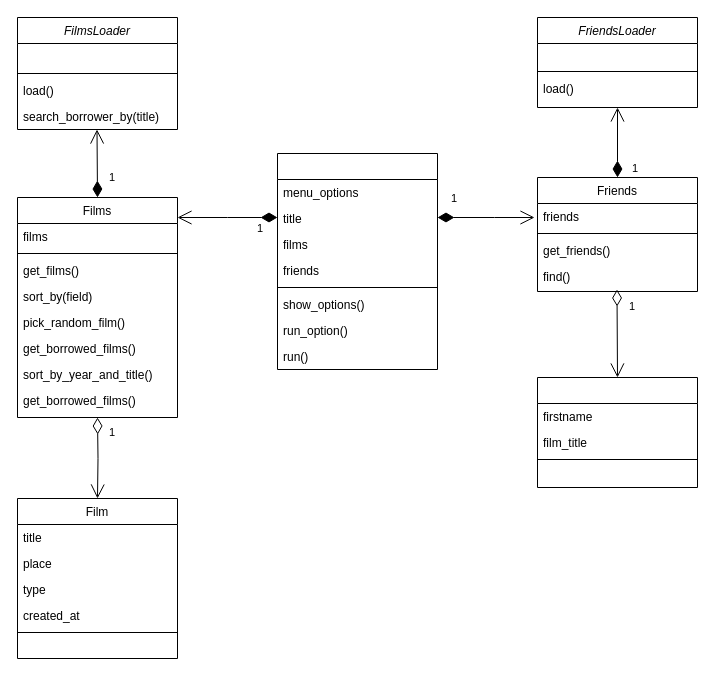
Image size: 715x676. Some labels were removed from this diagram. The box of each missing label's shape, as (x1, y1, x2, y2) in pixels:
App: (276, 152, 438, 370)
Friend: (536, 376, 698, 488)
